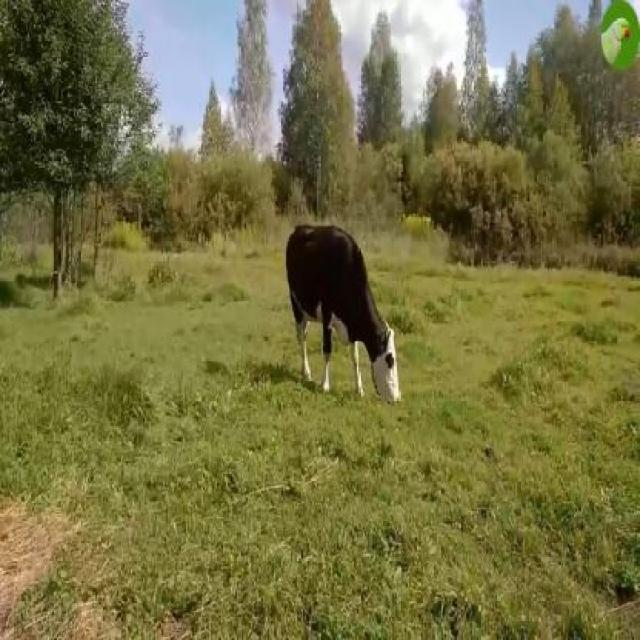Cow: (288, 227, 400, 416)
